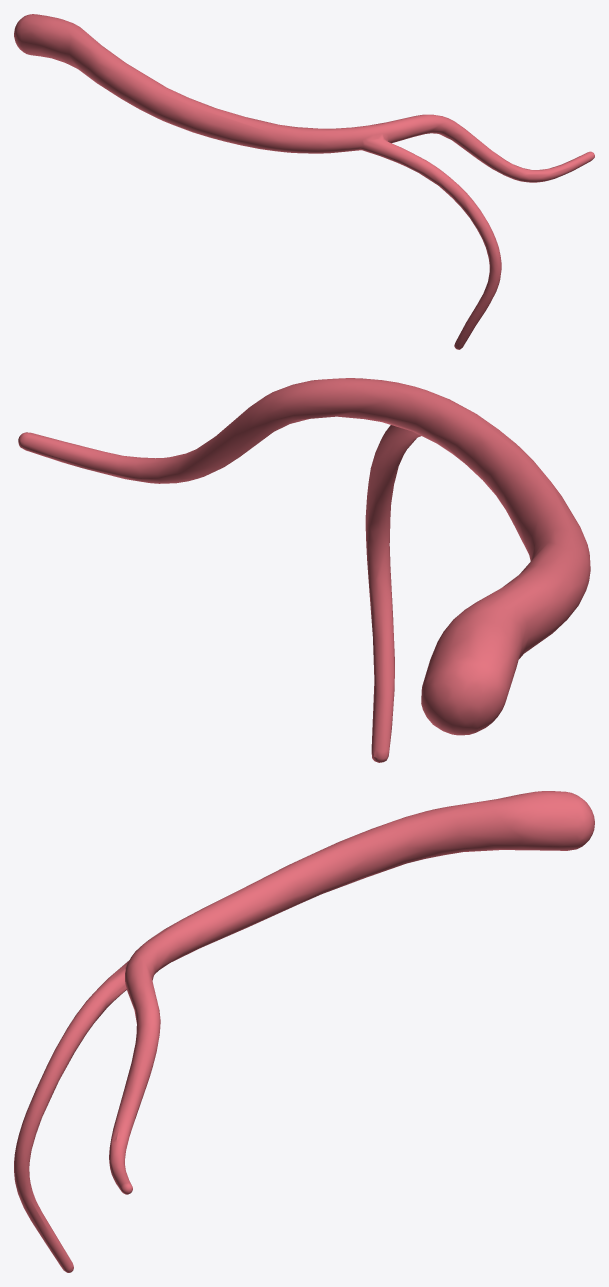
Rendered from fma15432_fj3125.glb.
The picture shows the model from 3 angles, top to bottom: view 1: azimuth 30°, elevation 25°; view 2: azimuth 150°, elevation 25°; view 3: azimuth 270°, elevation 25°; orthographic projection. The views are drawn at different scales.
Visible parts, largest first — view 1: FMA15432_FJ3125; view 2: FMA15432_FJ3125; view 3: FMA15432_FJ3125.
Boxes of the visible parts, x1,y1,x2,y2 form: FMA15432_FJ3125: (14,14,594,349); FMA15432_FJ3125: (18,378,590,762); FMA15432_FJ3125: (14,791,594,1272).
Bounding box in the file's own units: 0.0495 × 0.0295 × 0.0466.
